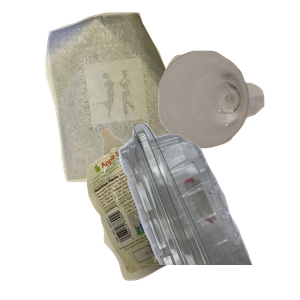glass: (156, 48, 300, 189)
paper: (43, 10, 221, 185)
plastic: (71, 120, 300, 300)
trash: (84, 126, 291, 300)
